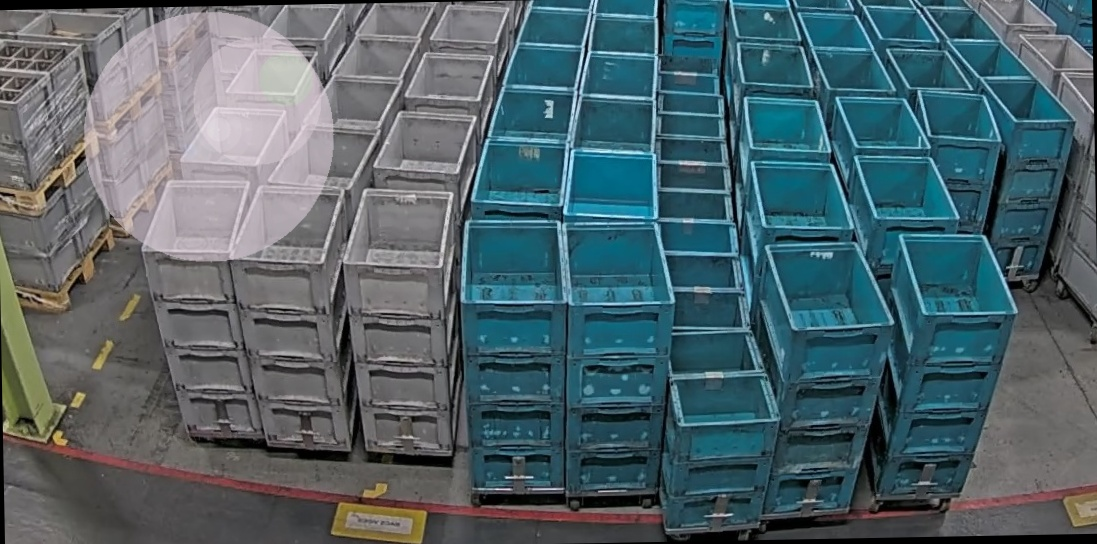4G: (227, 181, 359, 450), (139, 177, 266, 439), (340, 185, 462, 456)
B4: (864, 231, 1024, 497), (752, 239, 898, 517), (558, 221, 682, 495), (456, 217, 574, 490), (912, 87, 1006, 235)
B8: (655, 329, 785, 531)
